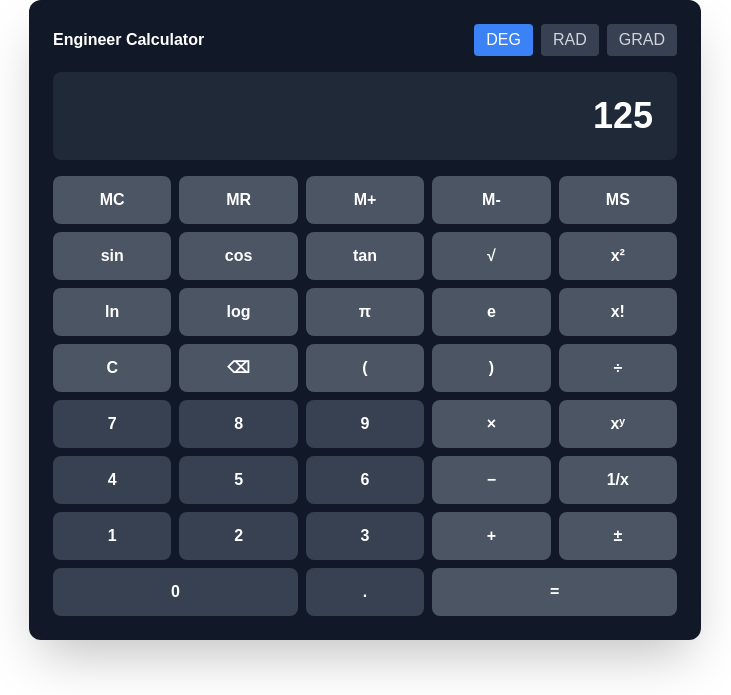
Calculator Component › should clear display when C clicked
Click the button "5".
click(239, 480)  # box [179,456,298,504]
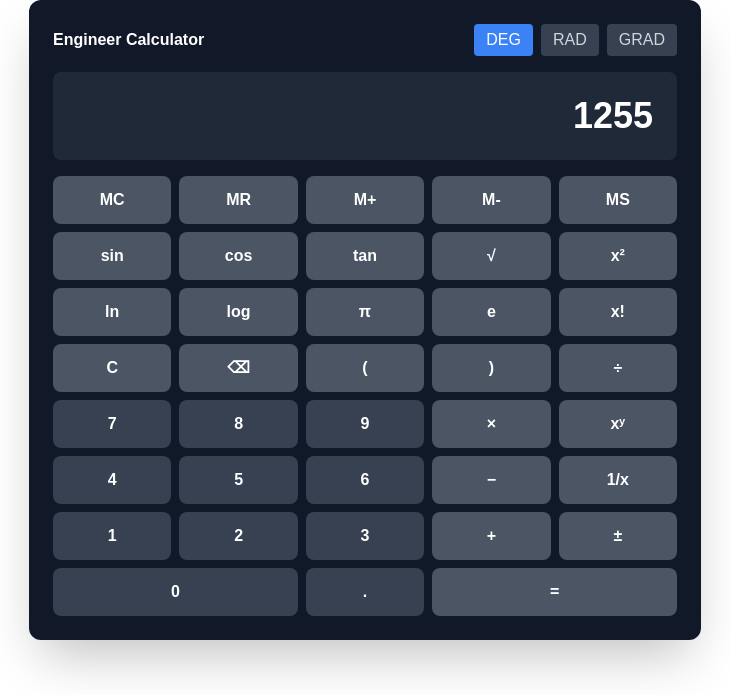
Click the button "C".
click(112, 368)  # box [53,344,171,392]
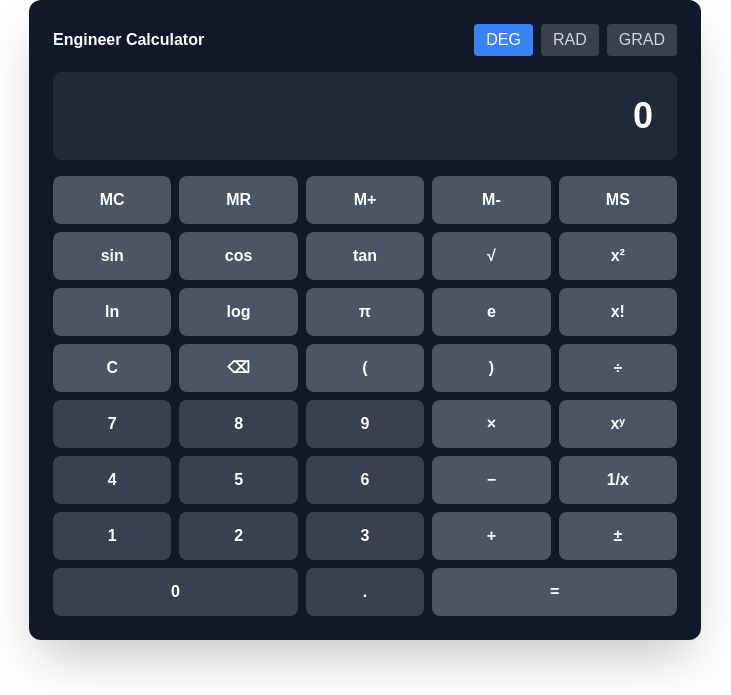
Check: the text "0" is shown, box [633,95,653,136]
